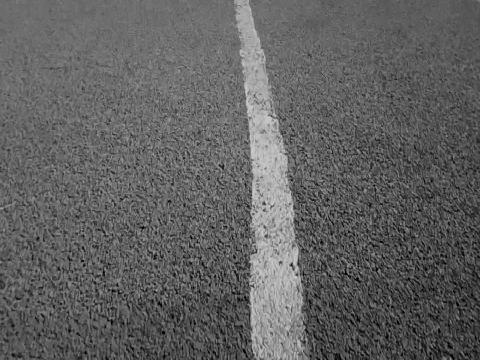Lines: (234, 0, 314, 360)
